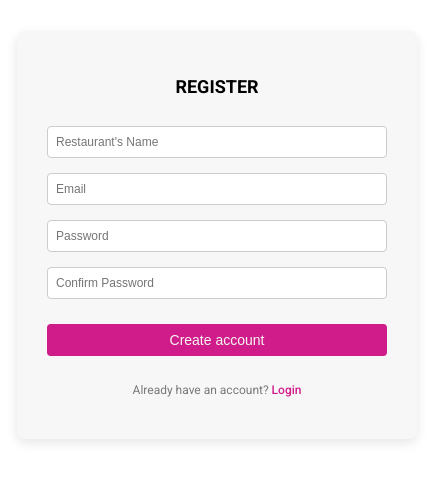
Scenario: Register Page › shows error if passwords do not match
Type "password123" into the password field with placeholder "Password". click: (217, 236)
box: [47,220,387,252]
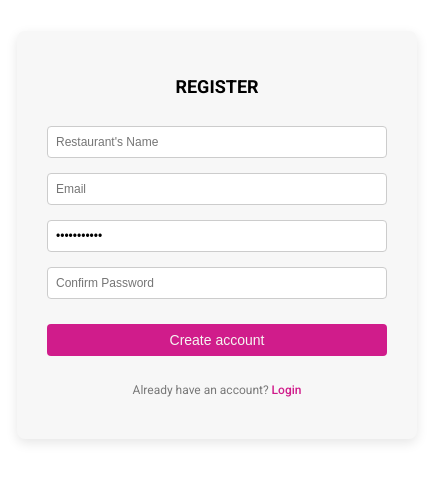
Type "password456" into the password field with placeholder "Confirm Password". click: (217, 283)
box: [47,267,387,299]
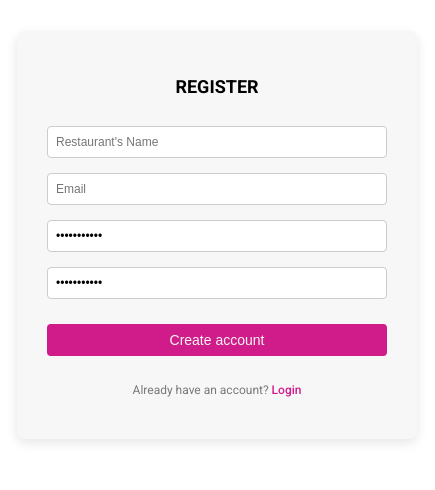
Click the button "Create account". click: (217, 340)
box: [47,324,387,356]
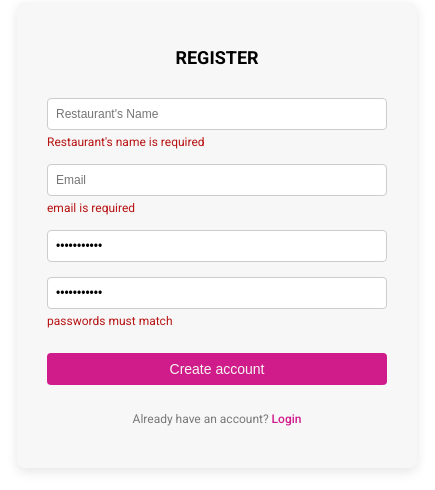
Expected: the text "passwords must match" is shown, [47,314,172,328]
